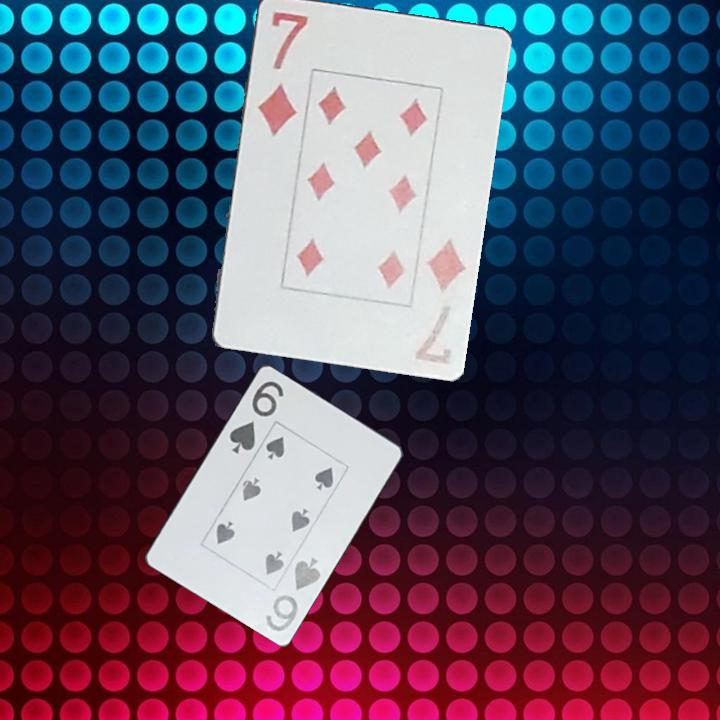6s: (261, 553, 324, 634), (224, 377, 287, 457)
7d: (411, 234, 469, 367), (254, 7, 311, 139)
